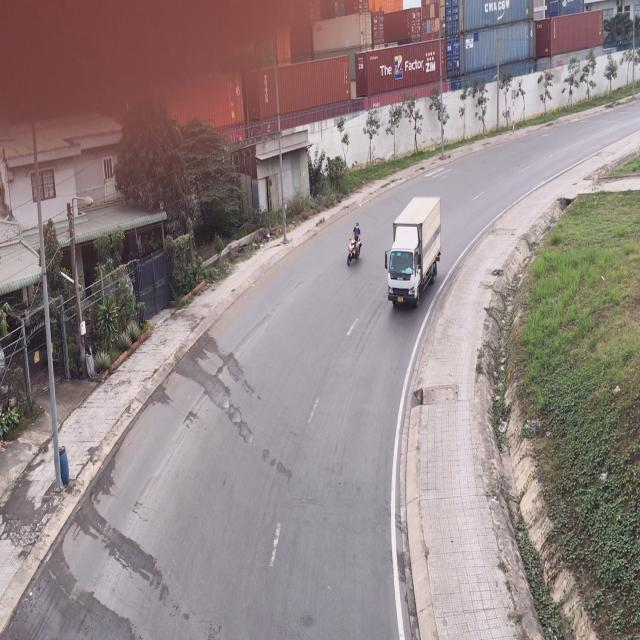motorbike: (346, 220, 362, 270)
truck: (387, 191, 442, 306)
